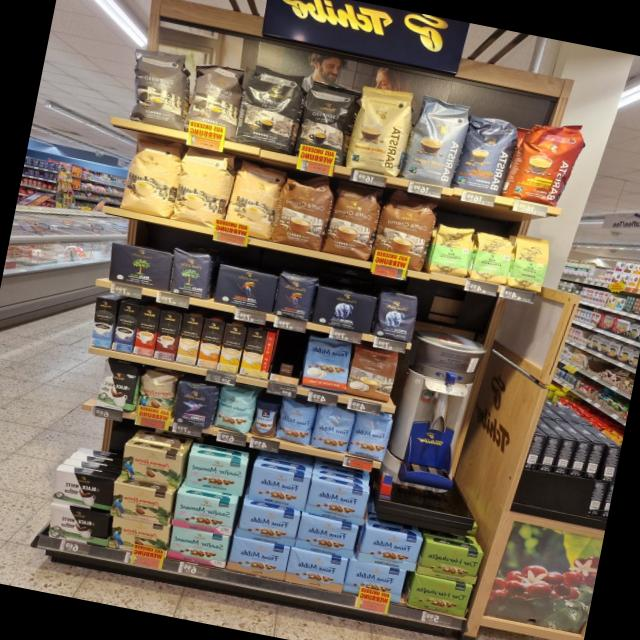AB Bohne: (372, 288, 421, 344)
AB Gemahlen: (311, 284, 378, 336)
Athiopien Bohne: (507, 232, 552, 294)
Athiopien Gemahlen: (428, 219, 477, 278), (469, 231, 516, 286)
BM Bohne: (166, 246, 214, 300)
BM Gemahlen: (104, 240, 174, 292)
BW Bohne: (94, 358, 142, 413)
BW Gemahlen: (49, 467, 115, 515), (46, 502, 111, 548)
Barista CB: (344, 84, 416, 178)
Barista CC: (401, 93, 473, 189)
Barista Espresso: (454, 111, 518, 197)
Barista Kolumbien: (504, 112, 588, 211)
C Fino Bohne: (170, 378, 219, 431)
CC Mild: (170, 146, 237, 230), (117, 136, 184, 218), (222, 158, 287, 242)
CC Vollmundig: (345, 344, 401, 403)
CC Vollmundig 36 Pads: (371, 190, 442, 274), (271, 169, 338, 252), (322, 178, 386, 262)
Colombia BB Bohne: (134, 369, 178, 422)
Colombia BB Gemahlen: (118, 442, 184, 490), (108, 481, 172, 526), (107, 515, 171, 559)
Empty Shelf: (271, 332, 309, 380)
Espresso M Art: (121, 42, 196, 130), (182, 59, 248, 142)
Espresso S Art: (234, 62, 308, 154), (293, 79, 362, 166)
FM 36 Pads: (300, 334, 354, 394)
FM Bohne: (348, 410, 395, 462), (309, 404, 356, 455), (274, 398, 317, 447)
FM Gemahlen: (356, 525, 424, 573), (304, 478, 370, 526), (246, 464, 312, 512), (342, 558, 407, 604), (284, 548, 348, 594), (236, 502, 300, 548), (227, 536, 290, 582), (296, 514, 358, 559)
FM Instant: (250, 398, 280, 441)
Herzhatfe Mundig: (416, 540, 484, 586), (407, 574, 474, 618)
LG Bohne: (272, 272, 318, 324)
LG Gemahlen: (212, 263, 280, 314)
SM Bohne: (212, 384, 256, 436)
SM Gemahlen: (170, 490, 237, 538), (182, 452, 249, 498), (167, 524, 230, 570)
Simo CCMild: (238, 327, 276, 379)
Simo CCMild bigpack: (217, 323, 247, 374)
Simo CCVollmundig bigpack: (197, 318, 226, 369)
Simo Decaff: (175, 313, 204, 365)
Simo Es Brazil: (132, 306, 161, 356)
Simo Es Caramel: (153, 310, 183, 362)
Simo Es Kraft: (111, 301, 141, 353)
Simo Es Vanilla: (88, 297, 118, 349)
